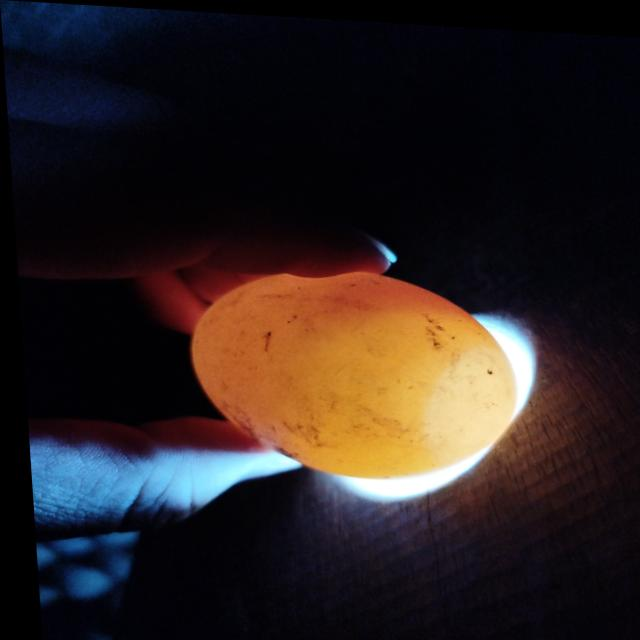Camara de Ar: (419, 342, 514, 456)
Gema Quebrada: (186, 270, 464, 458)
